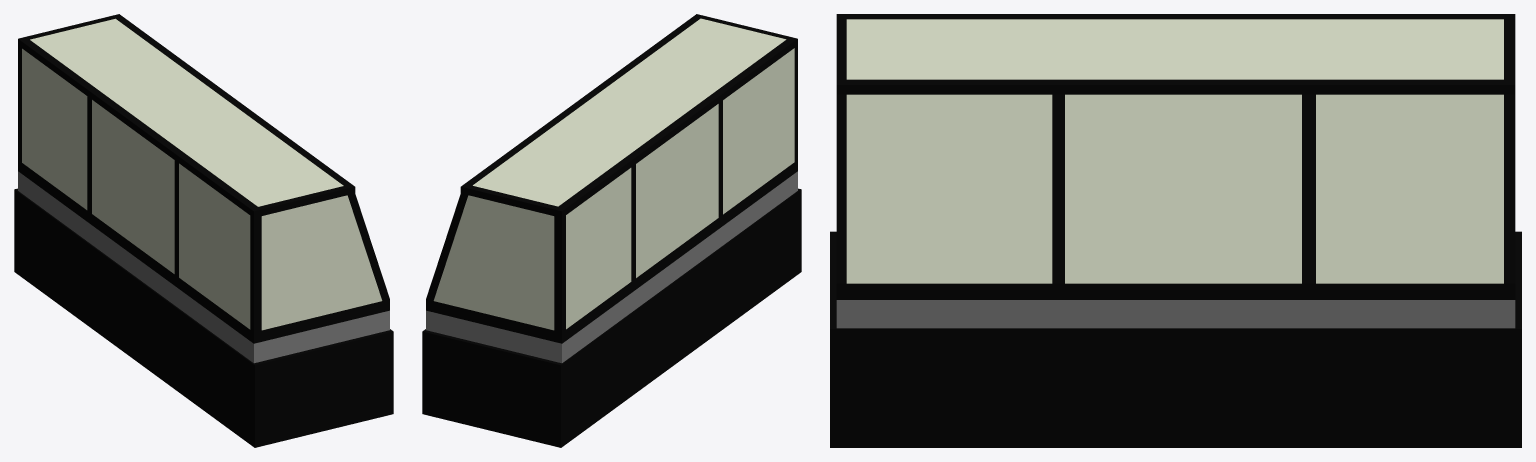
Rendered from S.ButcherDisplay.fbx.
3 renders of one model, left to right at view 1: azimuth 30°, elevation 25°; view 2: azimuth 150°, elevation 25°; view 3: azimuth 270°, elevation 25°, orthographic. The views are drawn at different scales.
Parts seen in each view (by area): view 1: Cube.002; view 2: Cube.002; view 3: Cube.002.
Part boxes in pixels (left/top/right/bottom): Cube.002: left=14, top=14, right=393, bottom=447; Cube.002: left=422, top=14, right=801, bottom=447; Cube.002: left=830, top=14, right=1521, bottom=447.
Bounding box in the file's own units: 265 × 428 × 796.
